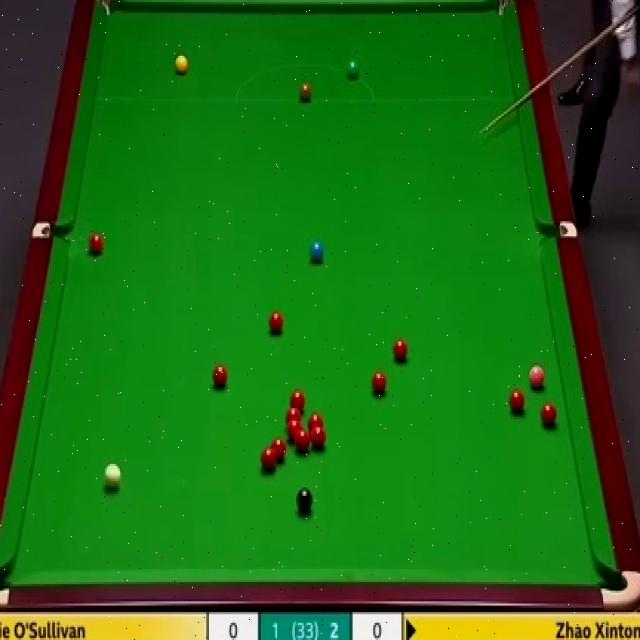black-ball: (296, 486, 313, 517)
blue-ball: (309, 240, 325, 262)
brown-ball: (298, 81, 312, 103)
green-ball: (346, 60, 360, 80)
pink-ball: (529, 363, 545, 390)
red-ball: (212, 363, 230, 392), (270, 436, 287, 466), (260, 444, 278, 471), (510, 389, 528, 415), (540, 403, 559, 427), (310, 426, 327, 452), (370, 371, 387, 397), (393, 337, 409, 364), (88, 232, 106, 255), (268, 312, 285, 335), (295, 428, 310, 453), (288, 390, 306, 408), (286, 420, 302, 440), (285, 406, 301, 424), (308, 415, 323, 429)
white-ball: (105, 464, 122, 489)
yellow-ball: (175, 55, 190, 77)
